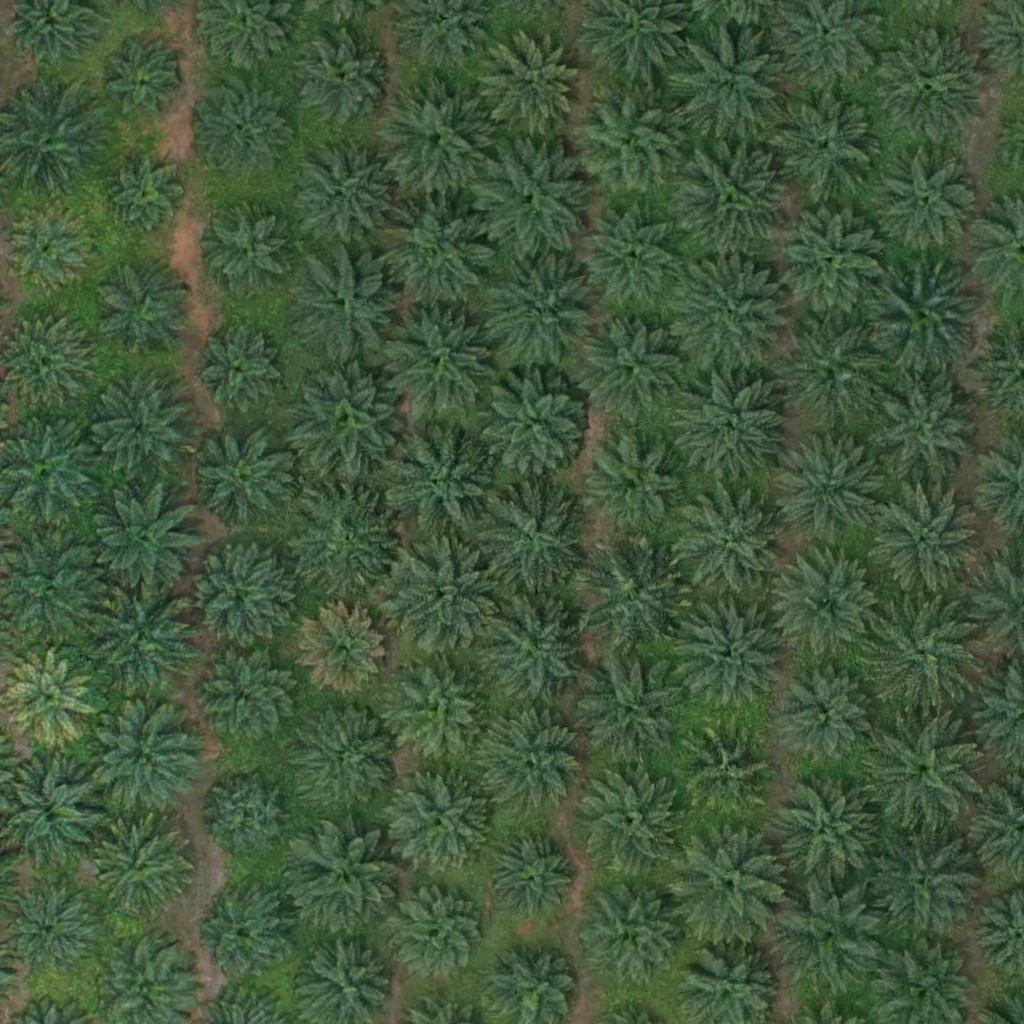Kelapa_Sawit: (88, 482, 201, 596), (571, 83, 684, 197), (676, 141, 789, 255), (676, 259, 789, 373), (775, 315, 888, 429), (776, 430, 889, 544), (85, 705, 198, 819), (675, 22, 788, 135), (284, 23, 397, 136), (285, 136, 398, 249), (291, 249, 404, 362), (291, 363, 404, 476), (381, 304, 494, 417), (383, 430, 496, 543), (386, 540, 499, 653), (672, 372, 785, 485), (679, 490, 792, 603), (772, 549, 885, 662), (867, 716, 980, 829), (866, 821, 979, 934), (769, 770, 882, 883), (478, 593, 591, 706), (86, 580, 199, 693), (777, 205, 889, 319), (869, 370, 981, 484), (868, 487, 980, 601), (874, 31, 986, 144), (292, 485, 404, 598), (377, 82, 489, 195), (380, 198, 492, 311), (479, 142, 591, 255), (485, 254, 597, 367), (479, 366, 591, 479), (474, 479, 586, 592), (578, 309, 690, 422), (575, 539, 687, 652), (771, 87, 883, 200), (869, 263, 981, 376), (863, 596, 975, 709), (775, 877, 887, 990), (673, 826, 785, 939), (572, 765, 684, 878), (672, 593, 784, 706), (576, 652, 688, 765), (294, 828, 406, 941), (483, 31, 583, 132), (96, 255, 196, 356), (91, 380, 191, 481), (197, 205, 297, 306), (190, 428, 290, 529), (587, 432, 687, 533), (879, 152, 979, 253), (583, 885, 683, 986), (480, 707, 580, 808), (391, 658, 491, 759), (198, 644, 298, 745), (300, 704, 400, 805), (194, 79, 294, 179), (190, 544, 290, 644), (582, 210, 682, 310), (390, 770, 490, 870), (388, 881, 488, 981), (92, 820, 192, 920), (683, 727, 771, 816), (3, 208, 91, 296), (104, 148, 192, 236), (194, 324, 282, 412), (298, 605, 386, 693), (1, 884, 89, 972), (3, 313, 90, 401), (485, 831, 572, 919), (784, 670, 871, 758), (5, 650, 92, 738), (206, 772, 293, 860), (207, 890, 294, 978), (104, 43, 179, 119)
